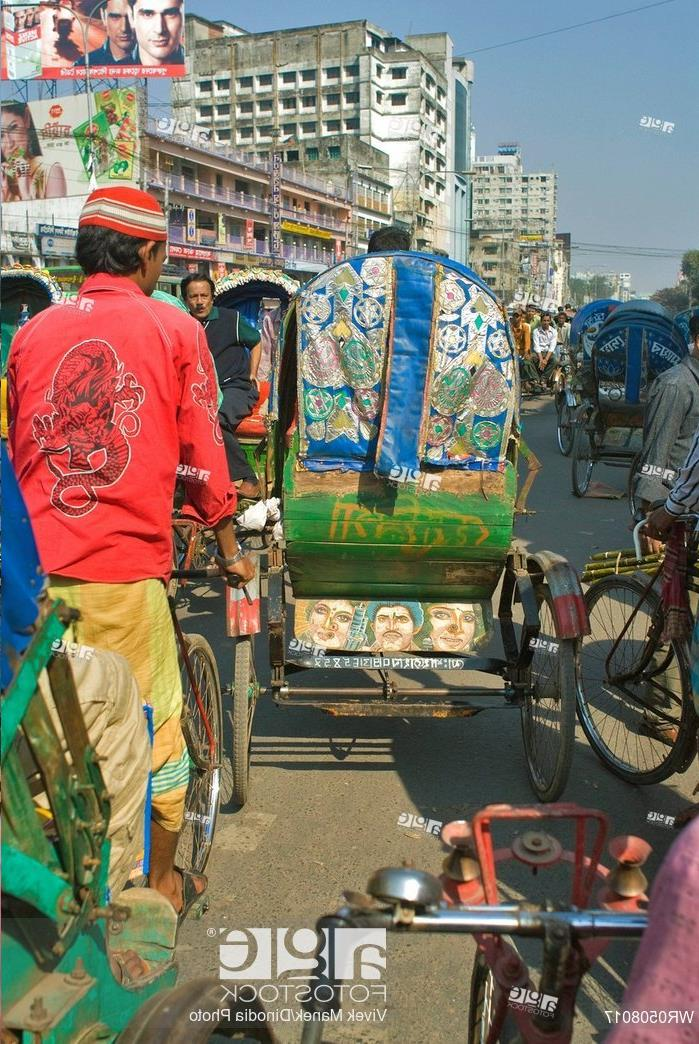Rickshaw: (0, 401, 289, 1038), (254, 249, 584, 768), (190, 249, 314, 495), (575, 282, 691, 484), (565, 285, 608, 427), (3, 244, 56, 333)
